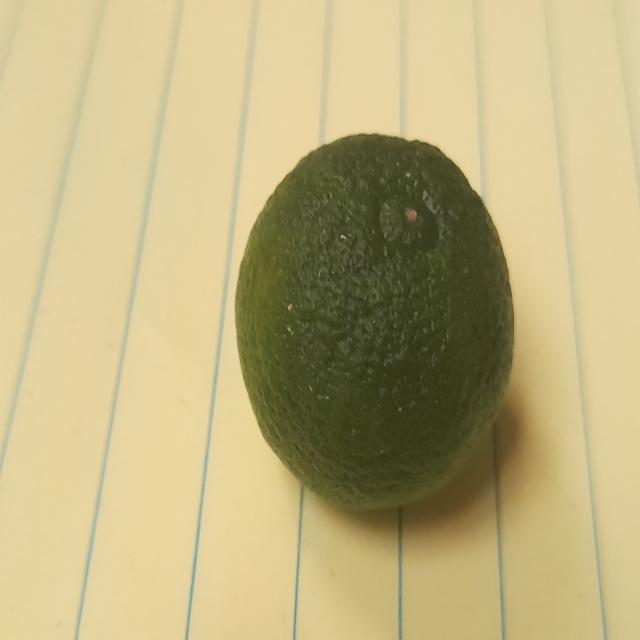heathy: (231, 122, 526, 526)
